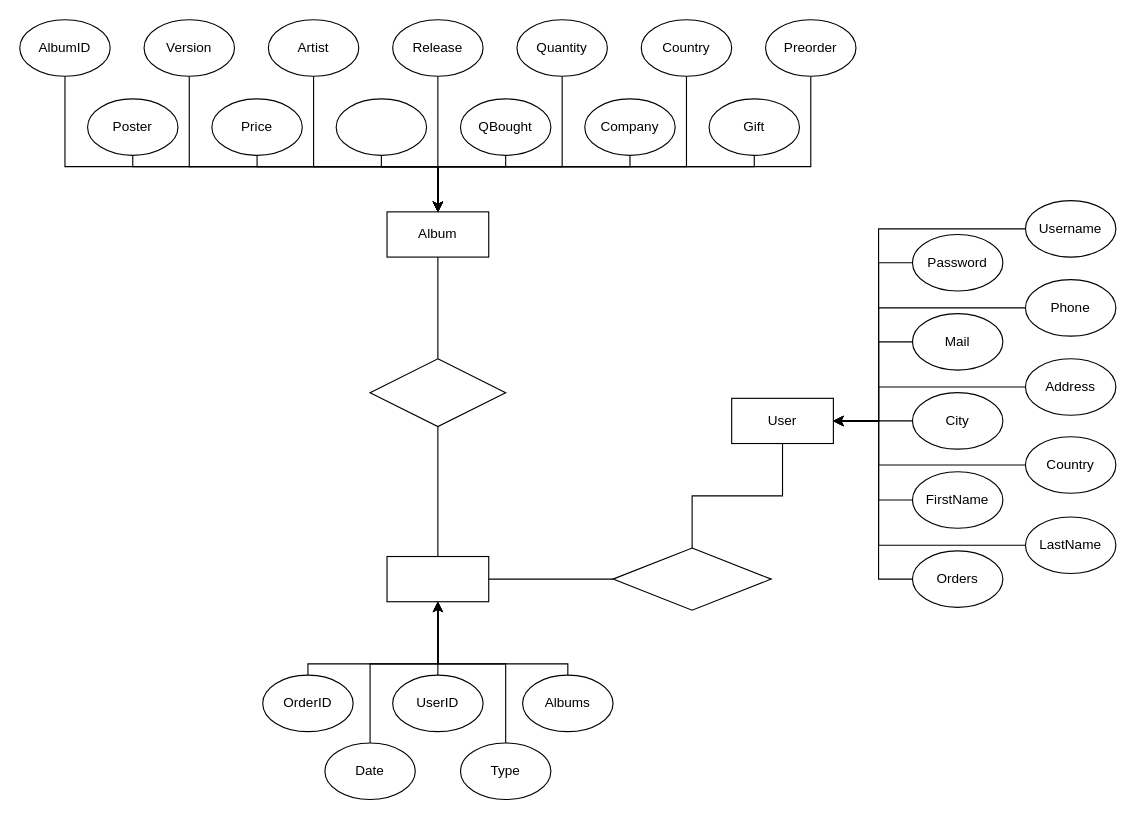
Some shapes in this 1136 by 819 pixel diagram are drawn without their labels. Here are the shapes that lost their labels. From the top down, the centre of each, then its label:
the point at 381,126: Name
the point at 437,392: contains
the point at 437,578: Odrer
the point at 691,578: makes
